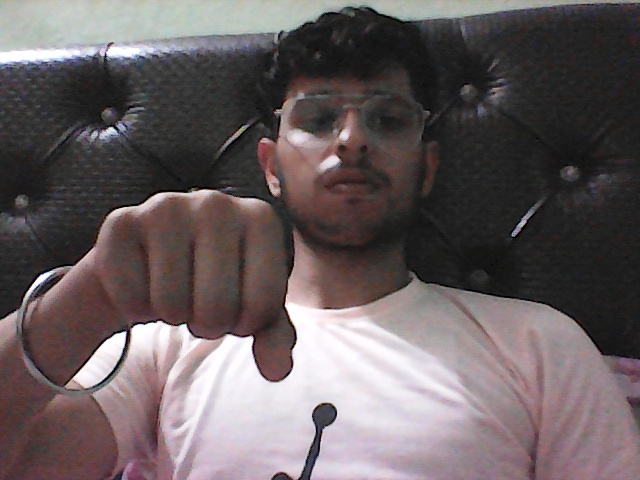yes: (96, 191, 327, 400)
